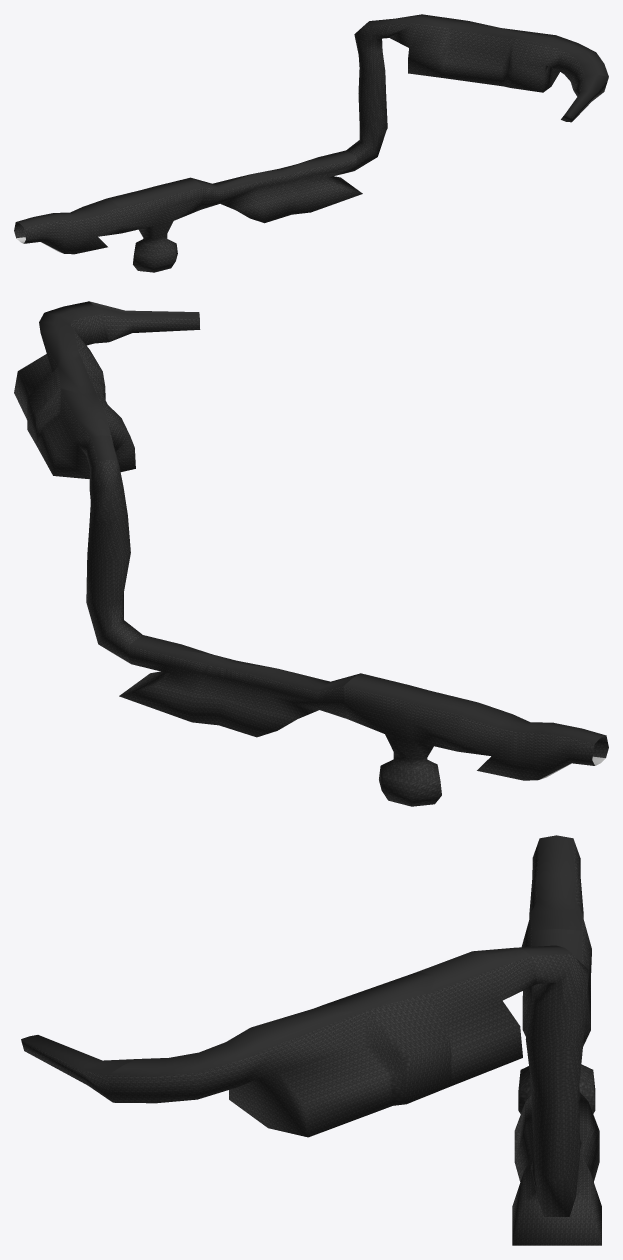
Rendered from Cuevas.obj.
The picture shows the model from 3 angles, top to bottom: view 1: azimuth 30°, elevation 25°; view 2: azimuth 150°, elevation 25°; view 3: azimuth 270°, elevation 25°; orthographic projection. The views are drawn at different scales.
Visible parts, largest first — view 1: Cube.009; view 2: Cube.009; view 3: Cube.009.
Boxes of the visible parts, x1,y1,x2,y2 form: Cube.009: (14, 14, 608, 272); Cube.009: (14, 301, 608, 806); Cube.009: (21, 835, 601, 1245).
Bounding box in the file's own units: 604 × 240 × 313.
